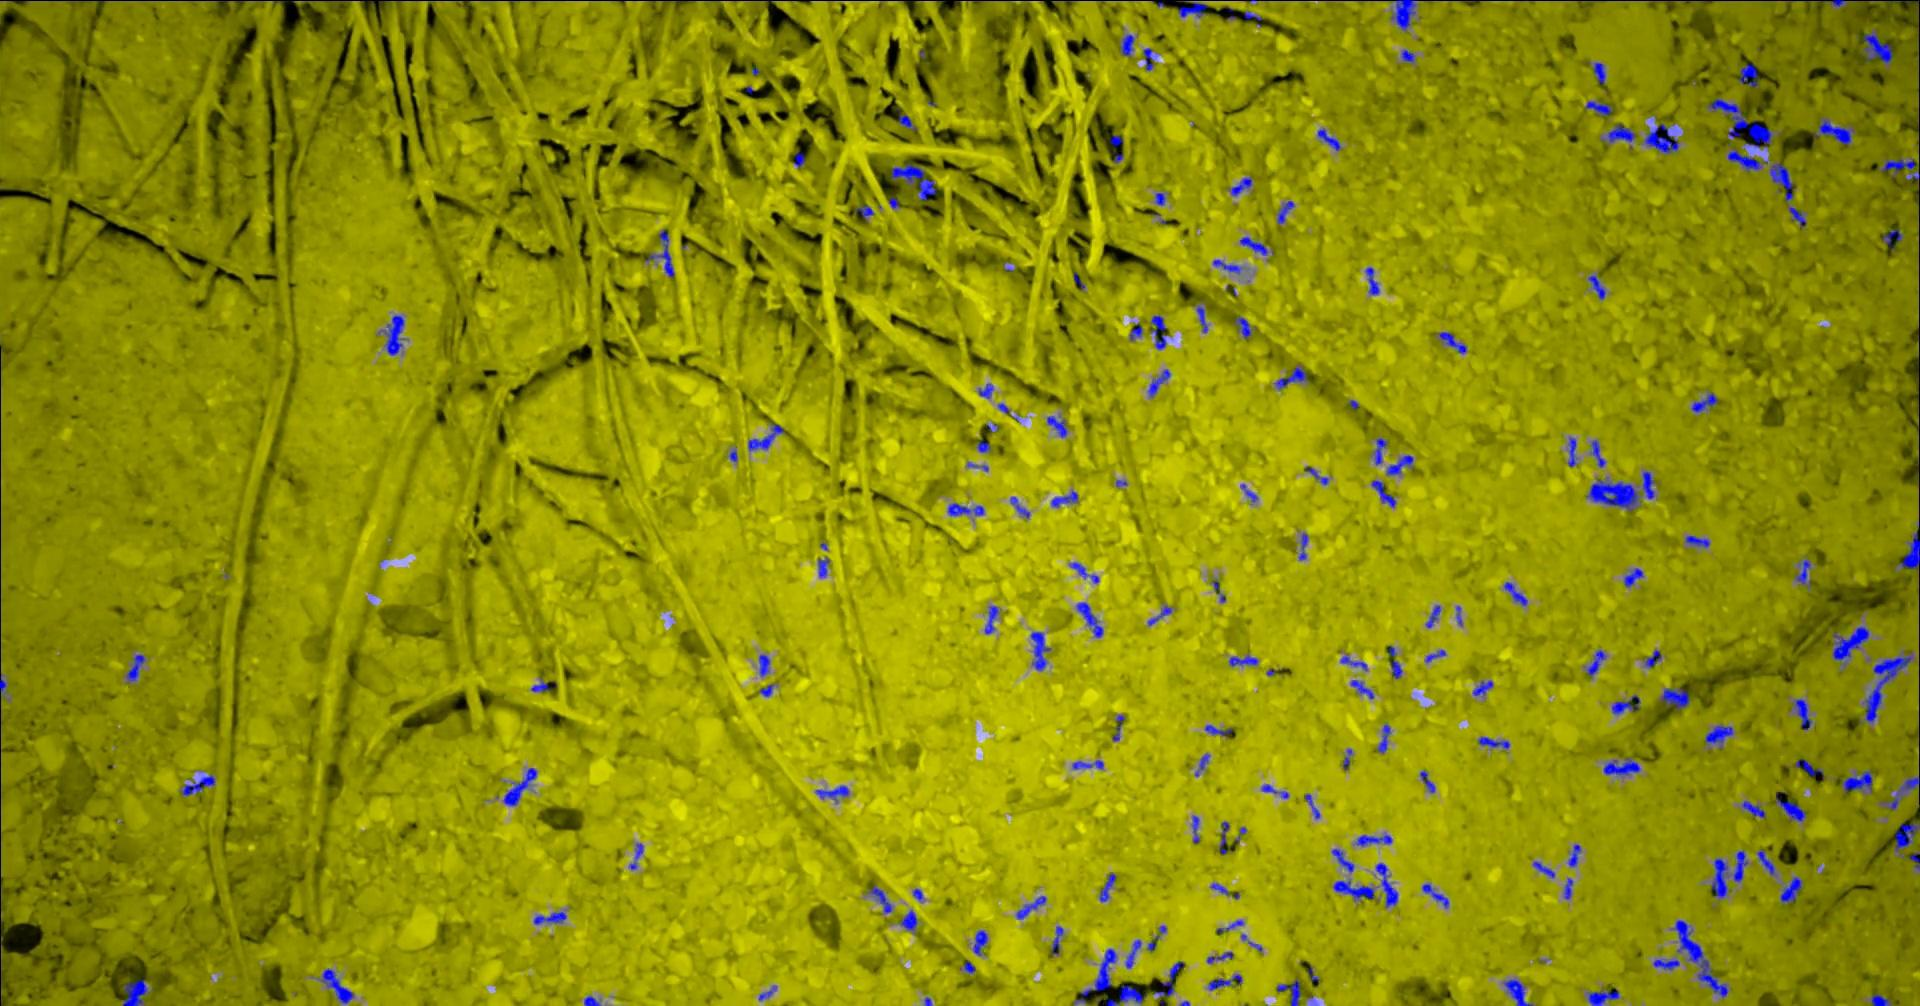ant: (1672, 920, 1728, 997), (1862, 655, 1911, 721), (1707, 98, 1771, 147), (1072, 948, 1116, 1005), (890, 163, 935, 199), (644, 229, 674, 277), (1832, 626, 1869, 666), (1154, 962, 1183, 1005), (503, 767, 536, 805), (1881, 158, 1919, 189), (1857, 30, 1892, 64), (321, 968, 353, 1005), (1883, 777, 1919, 809), (378, 315, 405, 354), (1812, 118, 1853, 144), (1644, 122, 1677, 152), (1897, 522, 1919, 568), (747, 423, 783, 450), (1727, 147, 1768, 171), (1375, 862, 1397, 907), (1076, 602, 1103, 636), (1769, 163, 1793, 201), (1332, 880, 1374, 901), (1775, 793, 1804, 821), (1105, 984, 1144, 1005), (1030, 631, 1050, 669), (1015, 895, 1046, 920), (1710, 857, 1730, 897), (180, 774, 215, 795), (1390, 0, 1415, 30), (1274, 367, 1307, 389), (1503, 979, 1531, 1005), (1895, 822, 1919, 851), (1658, 687, 1689, 710), (1841, 768, 1872, 791), (869, 883, 891, 913), (1600, 123, 1636, 142), (1603, 757, 1641, 775), (1704, 725, 1732, 749), (122, 979, 147, 1005), (1371, 480, 1396, 507), (1421, 883, 1448, 907), (1276, 978, 1300, 1005), (1149, 314, 1167, 349), (1239, 236, 1272, 255), (1147, 370, 1170, 396), (1385, 453, 1413, 475), (1069, 561, 1098, 582), (1503, 580, 1528, 605), (1439, 332, 1465, 353), (1779, 876, 1801, 903), (1611, 694, 1639, 714), (1794, 760, 1823, 779), (1331, 848, 1354, 873), (815, 785, 848, 801), (1585, 649, 1605, 676), (1793, 699, 1811, 729), (1145, 925, 1166, 951), (1176, 0, 1208, 17), (1731, 850, 1747, 882), (1387, 645, 1402, 678), (1208, 974, 1241, 989), (1587, 988, 1618, 1005), (1098, 873, 1116, 901), (1317, 128, 1340, 150), (1881, 229, 1902, 251), (1147, 605, 1171, 625), (1691, 392, 1717, 412), (126, 654, 143, 681), (1211, 259, 1242, 274), (1219, 821, 1233, 854), (1125, 939, 1140, 968), (1050, 490, 1077, 507), (1046, 415, 1067, 437), (1738, 64, 1757, 86), (897, 107, 916, 130), (1010, 495, 1029, 518), (1350, 680, 1373, 699), (1803, 0, 1870, 6), (1590, 439, 1605, 467), (1757, 848, 1774, 874), (533, 911, 566, 923), (1623, 567, 1643, 587), (1585, 100, 1611, 116), (1587, 276, 1605, 298), (1305, 466, 1328, 484), (947, 503, 983, 514), (1477, 735, 1509, 748), (1277, 199, 1294, 224), (1741, 800, 1765, 817), (1796, 559, 1810, 587), (984, 605, 998, 633), (1377, 724, 1390, 752), (1230, 177, 1251, 196), (1304, 793, 1319, 818), (1050, 925, 1063, 955), (1365, 267, 1379, 293), (1340, 655, 1366, 669), (1261, 784, 1288, 798), (1217, 920, 1243, 934), (1355, 835, 1390, 845), (899, 909, 917, 930), (1234, 316, 1251, 338), (629, 843, 643, 869), (973, 930, 987, 955), (1425, 605, 1440, 627), (1194, 753, 1209, 776), (1418, 770, 1434, 793), (1531, 861, 1554, 876), (1374, 437, 1387, 464), (1788, 207, 1804, 227), (1472, 680, 1492, 696), (1228, 654, 1257, 666), (1211, 579, 1225, 602), (1204, 724, 1232, 735), (1685, 535, 1709, 547), (1112, 714, 1124, 741), (1119, 34, 1133, 56), (1567, 437, 1577, 466), (855, 205, 872, 221), (1644, 649, 1661, 667), (1196, 306, 1208, 332), (1567, 843, 1580, 866), (1206, 951, 1232, 963), (1653, 958, 1679, 969), (1072, 760, 1103, 768), (1423, 649, 1445, 662), (530, 677, 549, 691), (1142, 47, 1153, 70), (1592, 62, 1605, 83), (817, 556, 829, 577), (1243, 11, 1261, 25), (758, 654, 770, 676), (1298, 532, 1307, 559), (1129, 323, 1142, 340), (1870, 993, 1890, 1005), (978, 384, 993, 398), (1191, 815, 1199, 843), (959, 960, 975, 973), (792, 151, 805, 166), (1563, 878, 1572, 899), (1909, 852, 1919, 870), (1401, 50, 1415, 62), (1109, 133, 1123, 146), (759, 683, 773, 696), (583, 995, 599, 1005), (977, 441, 990, 452), (0, 673, 6, 696), (1154, 192, 1164, 205)
